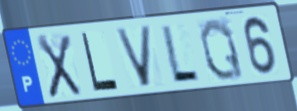6: (241, 13, 279, 77)
L: (79, 30, 121, 93), (159, 23, 202, 83)
Q: (197, 16, 246, 83)
V: (113, 24, 154, 90)
X: (34, 32, 83, 100)
